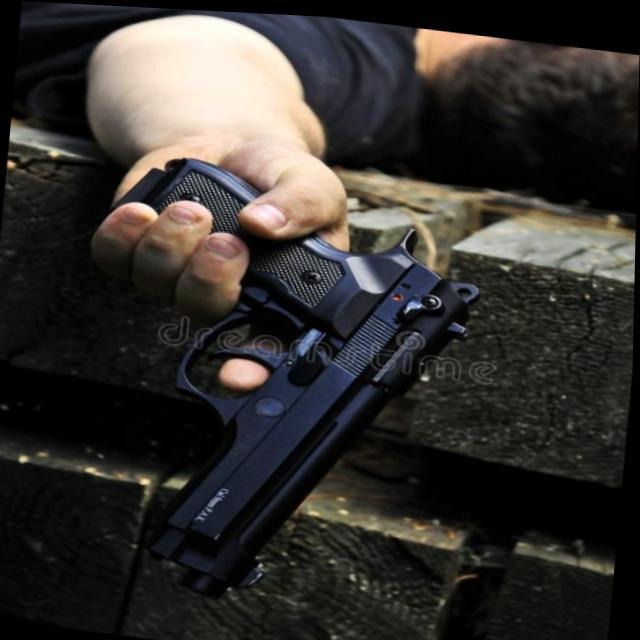weapon: (58, 135, 510, 634)
